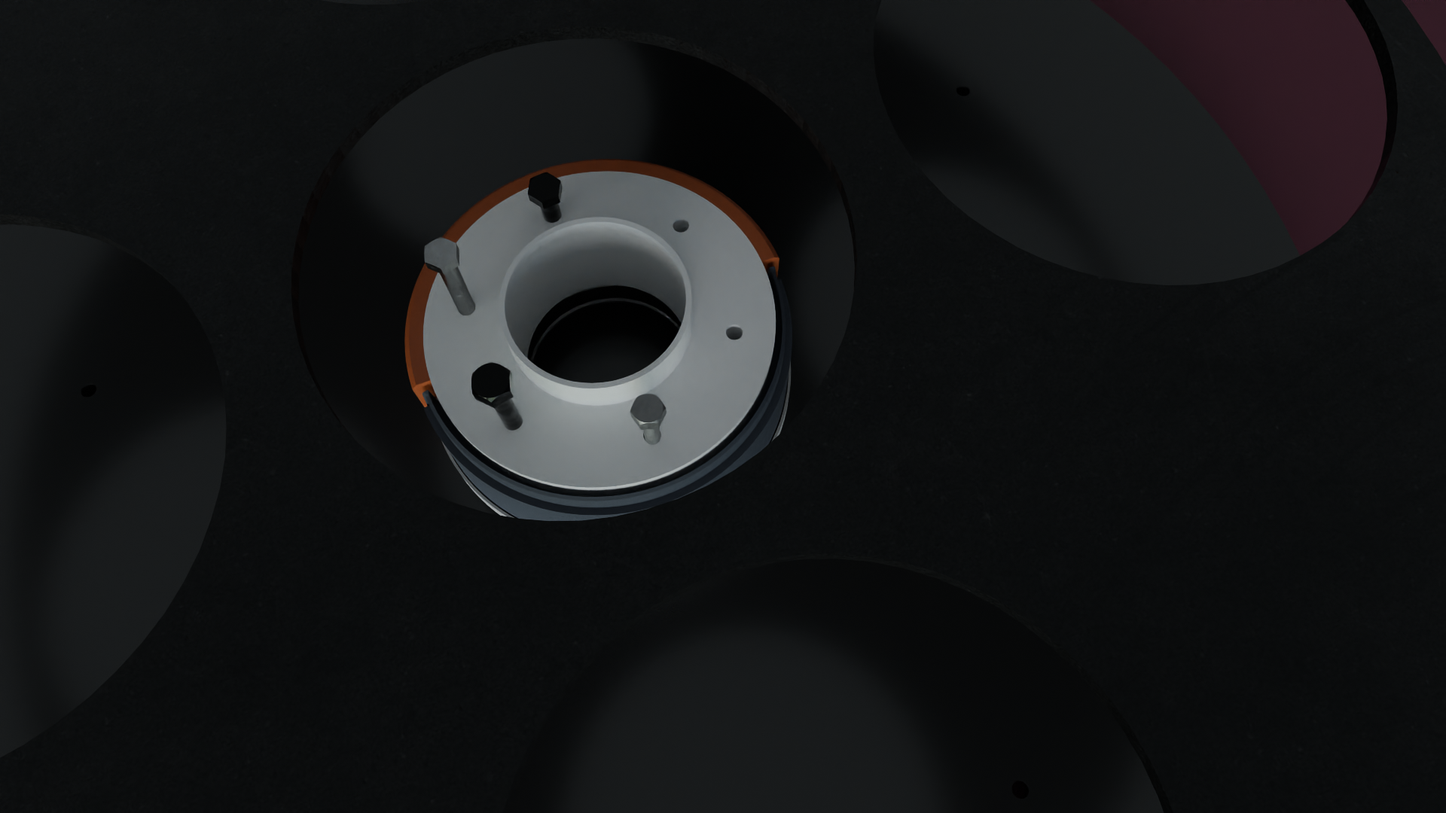bolt: (471, 362, 511, 403), (630, 394, 666, 425), (424, 237, 456, 269), (528, 172, 560, 202)
